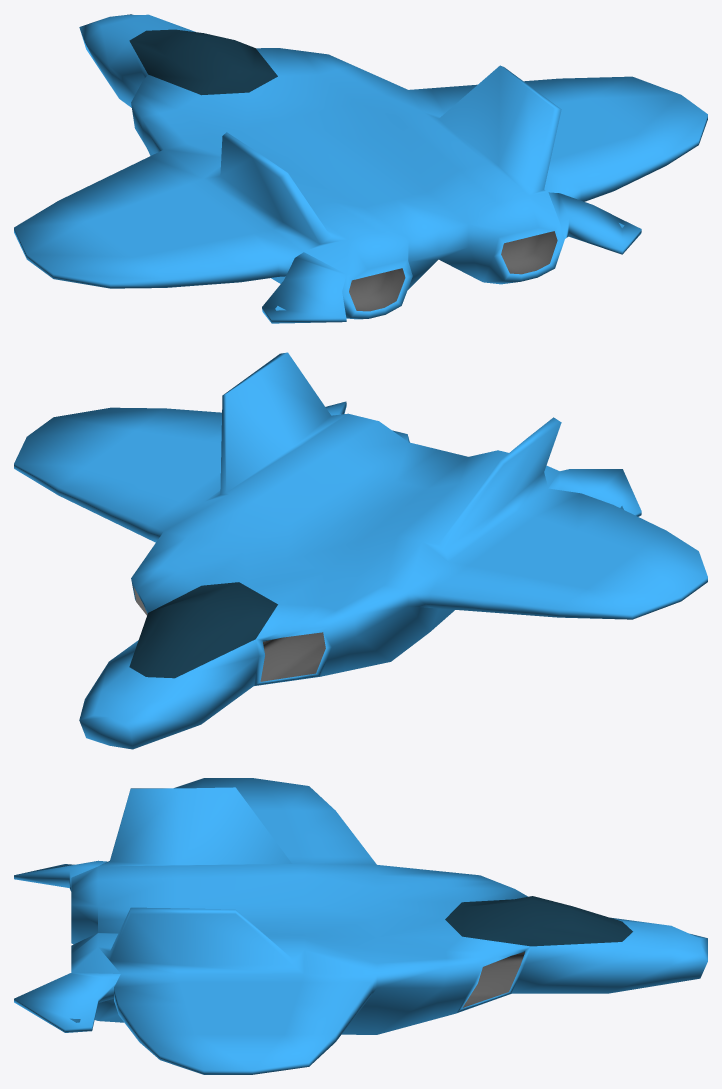
File: jetmove.002.glb
3 views of the same model, one above another, from view 1: azimuth 30°, elevation 25°; view 2: azimuth 150°, elevation 25°; view 3: azimuth 270°, elevation 25° (orthographic). The views are drawn at different scales.
Parts seen in each view (by area): view 1: FighterJet; view 2: FighterJet; view 3: FighterJet.
Part boxes in pixels (x1,y1,x2,y2): FighterJet: (14, 14, 707, 323); FighterJet: (14, 352, 707, 749); FighterJet: (14, 778, 707, 1074).
Size of the model in its own units: 9.12 by 2.12 by 9.15.
Materials: 1 (1 with a texture image).
